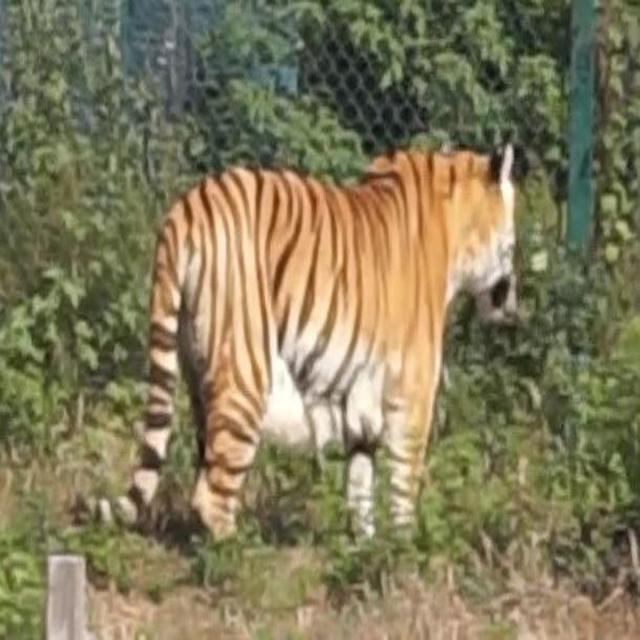tiger: (70, 140, 522, 553)
